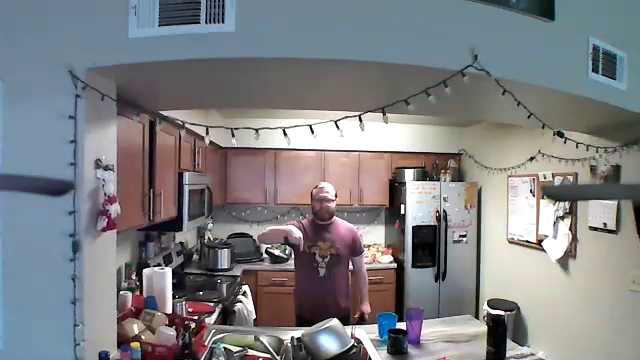down: (284, 222, 305, 253)
